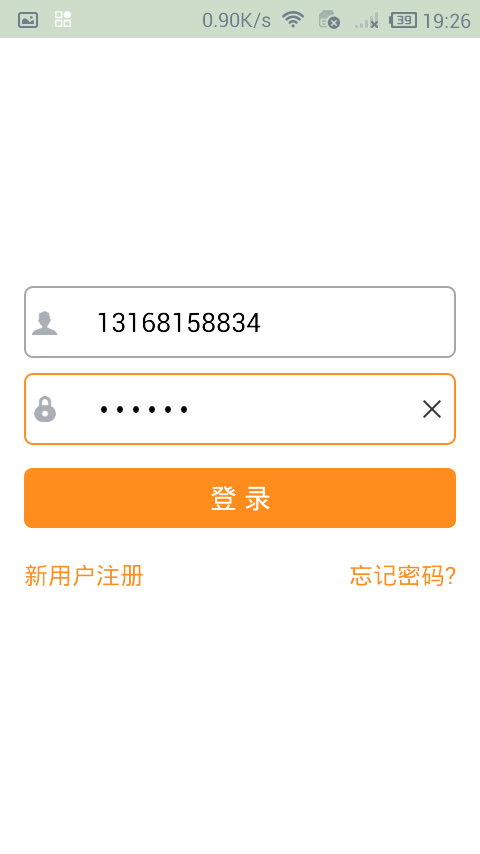button: (17, 466, 461, 535)
textview: (18, 367, 462, 453), (18, 283, 463, 367)
